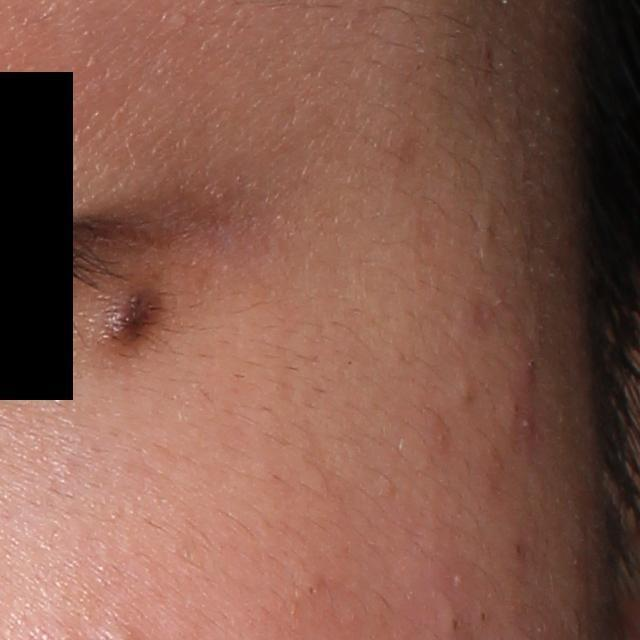comedo: (443, 609, 465, 636), (473, 609, 490, 628), (305, 580, 318, 601)
nevus: (96, 283, 171, 348)
